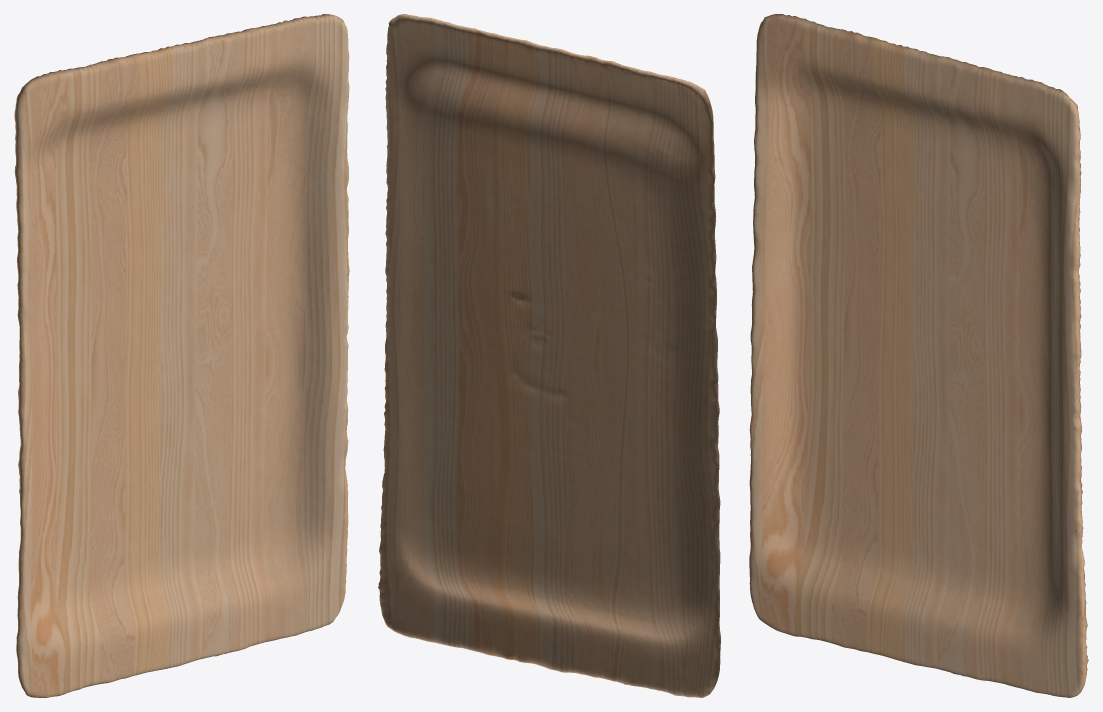
3 views of the same model, side by side, from view 1: azimuth 30°, elevation 25°; view 2: azimuth 150°, elevation 25°; view 3: azimuth 330°, elevation 25° (orthographic).
Bounding box in the file's own units: 0.5631 × 1 × 0.0557.
